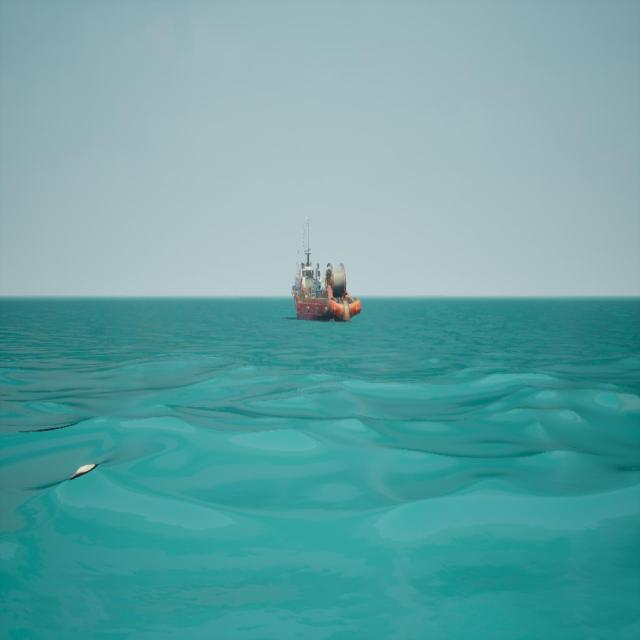tug boat: (292, 220, 360, 325)
